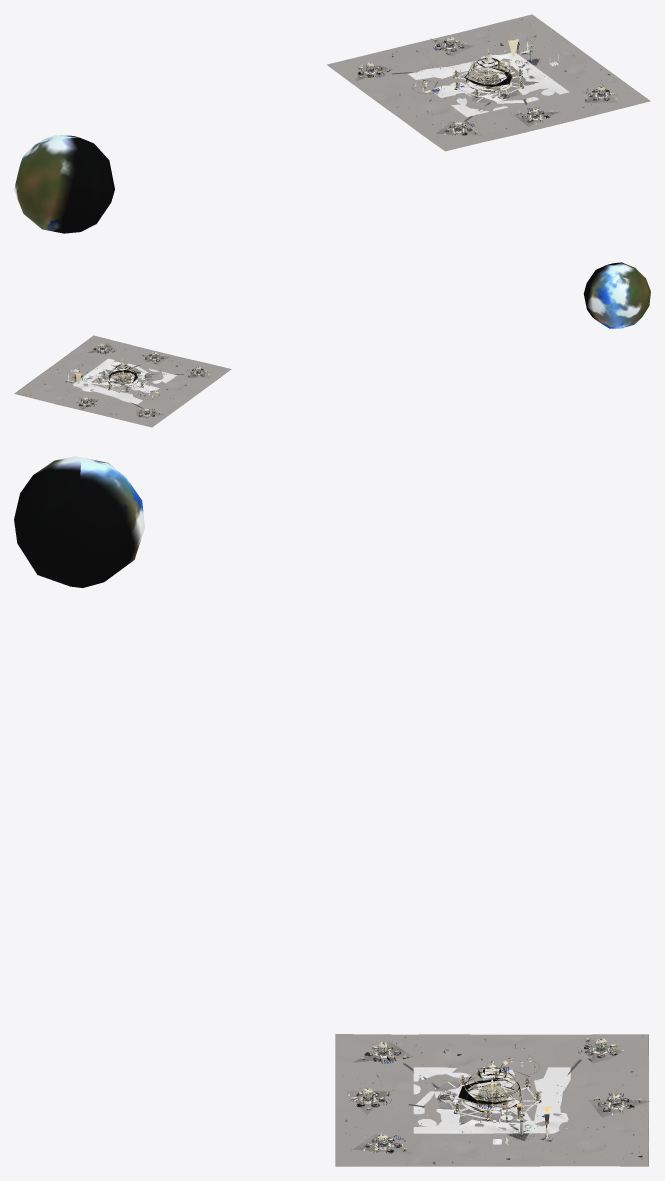
File: hunch_final_habitat.glb
3 views of the same model, one above another, from view 1: azimuth 30°, elevation 25°; view 2: azimuth 150°, elevation 25°; view 3: azimuth 270°, elevation 25° (orthographic). The views are drawn at different scales.
Parts seen in each view (by area): view 1: BAKED_TERRAIN, BAKED_EARTH, AGRI_AI_Mood_Garden_Panel_Bezel, BAKED_KINGDOM_Ground, BAKED_KINGDOM_Dome, BAKED_SPACEPORT; view 2: BAKED_TERRAIN, BAKED_EARTH, AGRI_AI_Mood_Garden_Panel_Bezel, BAKED_KINGDOM_Ground, BAKED_KINGDOM_Dome; view 3: BAKED_TERRAIN, BAKED_EARTH, AGRI_AI_Mood_Garden_Panel_Bezel, BAKED_KINGDOM_Ground, BAKED_KINGDOM_Dome.
Boxes of the visible parts, <box> form: BAKED_TERRAIN: <box>327,14,650,151</box>; BAKED_EARTH: <box>14,135,114,233</box>; AGRI_AI_Mood_Garden_Panel_Bezel: <box>408,50,569,116</box>; BAKED_KINGDOM_Ground: <box>465,66,534,102</box>; BAKED_KINGDOM_Dome: <box>464,57,512,86</box>; BAKED_SPACEPORT: <box>507,37,558,68</box>; BAKED_TERRAIN: <box>14,335,231,427</box>; BAKED_EARTH: <box>583,262,650,328</box>; AGRI_AI_Mood_Garden_Panel_Bezel: <box>73,358,176,404</box>; BAKED_KINGDOM_Ground: <box>91,370,152,387</box>; BAKED_KINGDOM_Dome: <box>108,364,137,383</box>; BAKED_TERRAIN: <box>335,1034,648,1166</box>; BAKED_EARTH: <box>14,456,144,587</box>; AGRI_AI_Mood_Garden_Panel_Bezel: <box>413,1066,570,1133</box>; BAKED_KINGDOM_Ground: <box>434,1080,525,1126</box>; BAKED_KINGDOM_Dome: <box>458,1067,520,1107</box>.
Bounding box in the file's own units: 5083 × 1362 × 2924.
60 materials, 60 textured.
